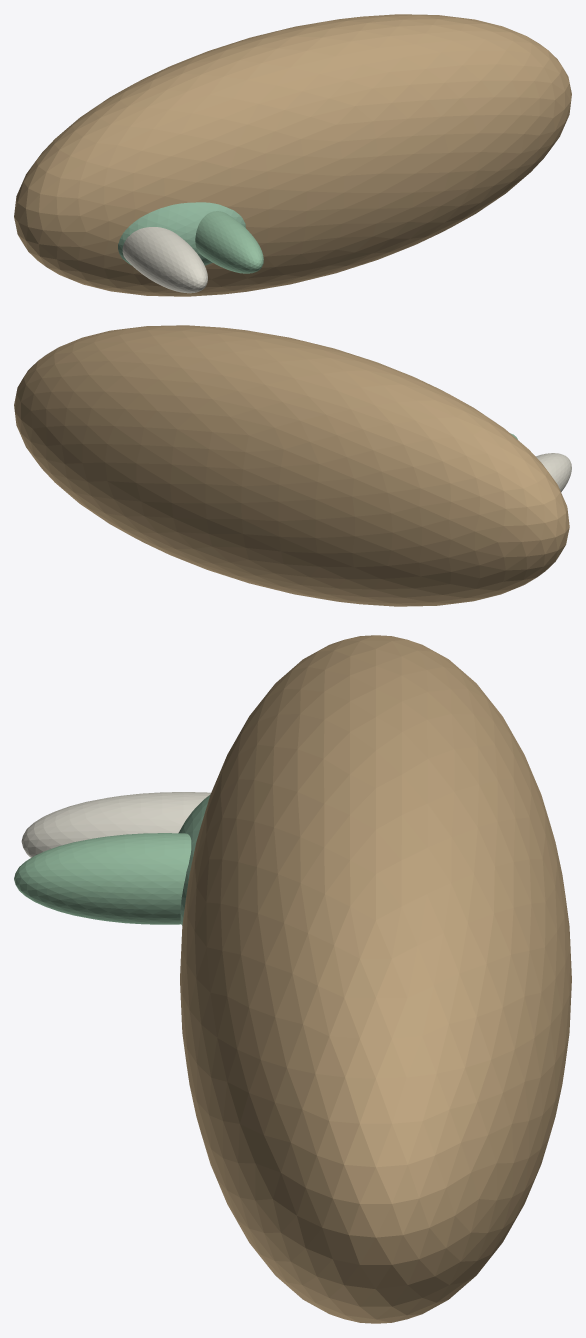
Rendered from seedverse_rice_seed.glb.
The picture shows the model from 3 angles, top to bottom: view 1: azimuth 30°, elevation 25°; view 2: azimuth 150°, elevation 25°; view 3: azimuth 270°, elevation 25°; orthographic projection. The views are drawn at different scales.
Parts seen in each view (by area): view 1: seed_coat, radicle, plumule, embryo; view 2: seed_coat, radicle; view 3: seed_coat, plumule, radicle, embryo.
Part boxes in pixels (x1,y1,x2,y2): seed_coat: (14, 14, 571, 296); radicle: (122, 227, 207, 293); plumule: (195, 211, 263, 273); embryo: (118, 202, 245, 265); seed_coat: (14, 325, 569, 606); radicle: (536, 453, 571, 492); seed_coat: (180, 635, 571, 1323); plumule: (14, 833, 191, 924); radicle: (21, 792, 210, 857); embryo: (178, 794, 210, 925).
Bounding box in the file's own units: 3.24 × 1.34 × 1.48.
